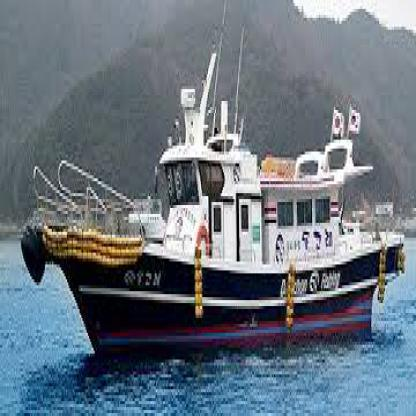fish-b: (2, 27, 415, 371)
